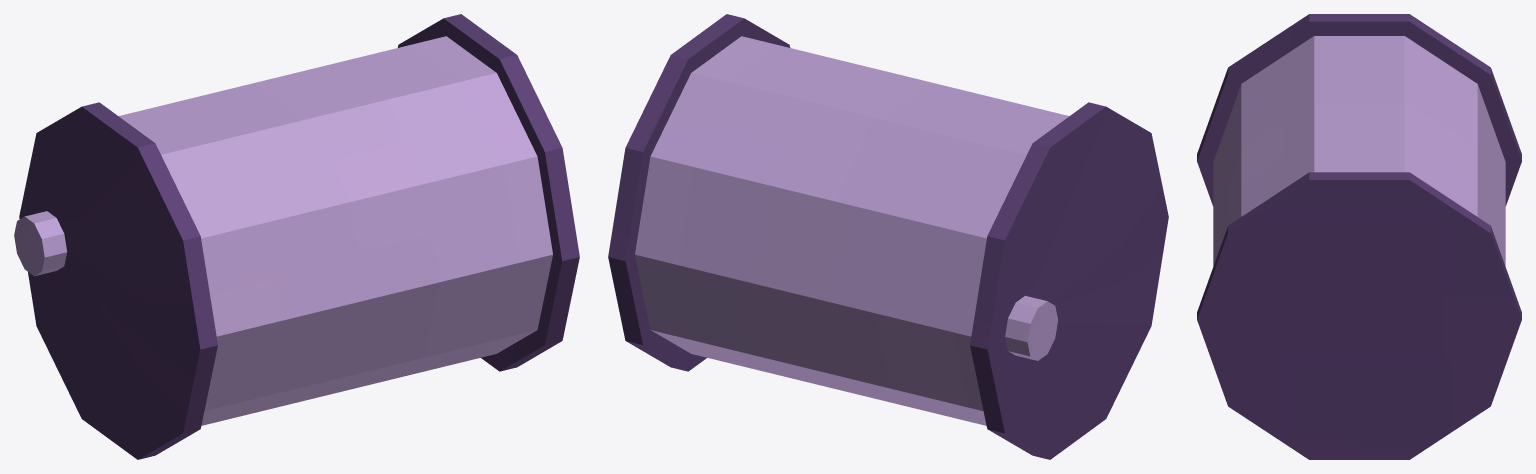
The model's file is Barrel.fbx.
3 renders of one model, left to right at view 1: azimuth 30°, elevation 25°; view 2: azimuth 150°, elevation 25°; view 3: azimuth 270°, elevation 25°, orthographic. The views are drawn at different scales.
Parts seen in each view (by area): view 1: Barrel; view 2: Barrel; view 3: Barrel.
Part boxes in pixels (box(x1,y1,x2,y2)): Barrel: box(14, 14, 579, 459); Barrel: box(608, 14, 1168, 459); Barrel: box(1197, 14, 1521, 459).
Bounding box in the file's own units: 855 × 635 × 667.
